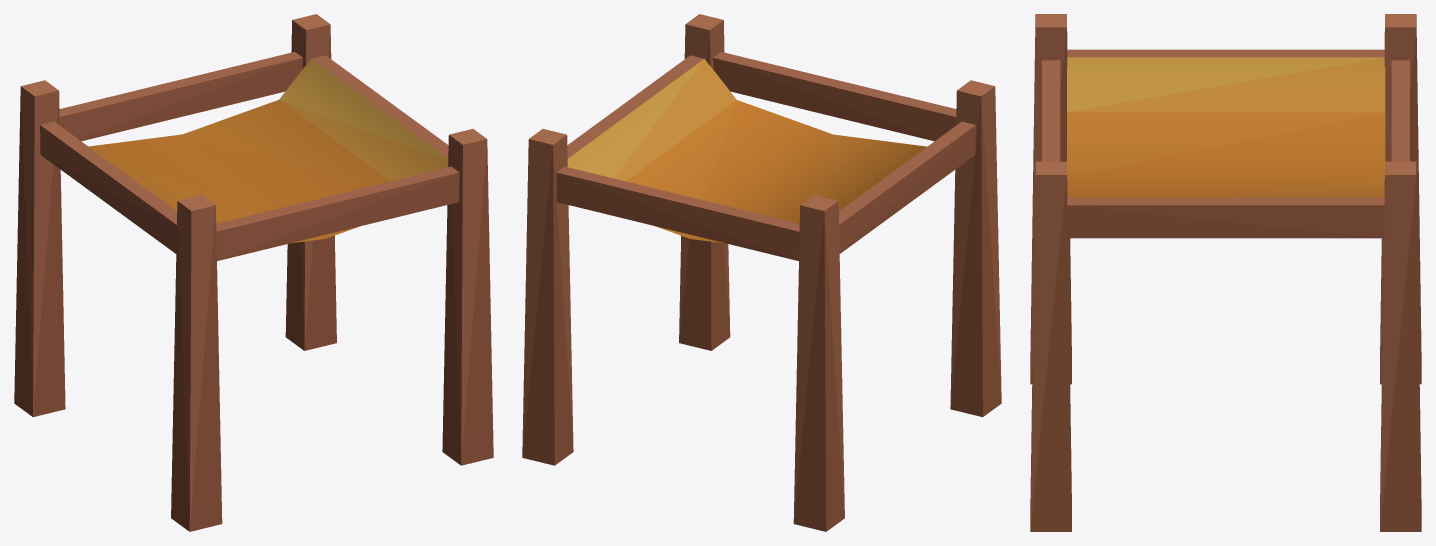
Rendered from survival_structure_canvas.glb.
3 renders of one model, left to right at view 1: azimuth 30°, elevation 25°; view 2: azimuth 150°, elevation 25°; view 3: azimuth 270°, elevation 25°, orthographic. The views are drawn at different scales.
Parts seen in each view (by area): view 1: survival_structure_canvas; view 2: survival_structure_canvas; view 3: survival_structure_canvas.
Part boxes in pixels (<box>): survival_structure_canvas: <box>14,14,493,531</box>; survival_structure_canvas: <box>522,14,1001,531</box>; survival_structure_canvas: <box>1030,14,1421,531</box>.
Size of the model in its own units: 0.5 by 0.5 by 0.5.
